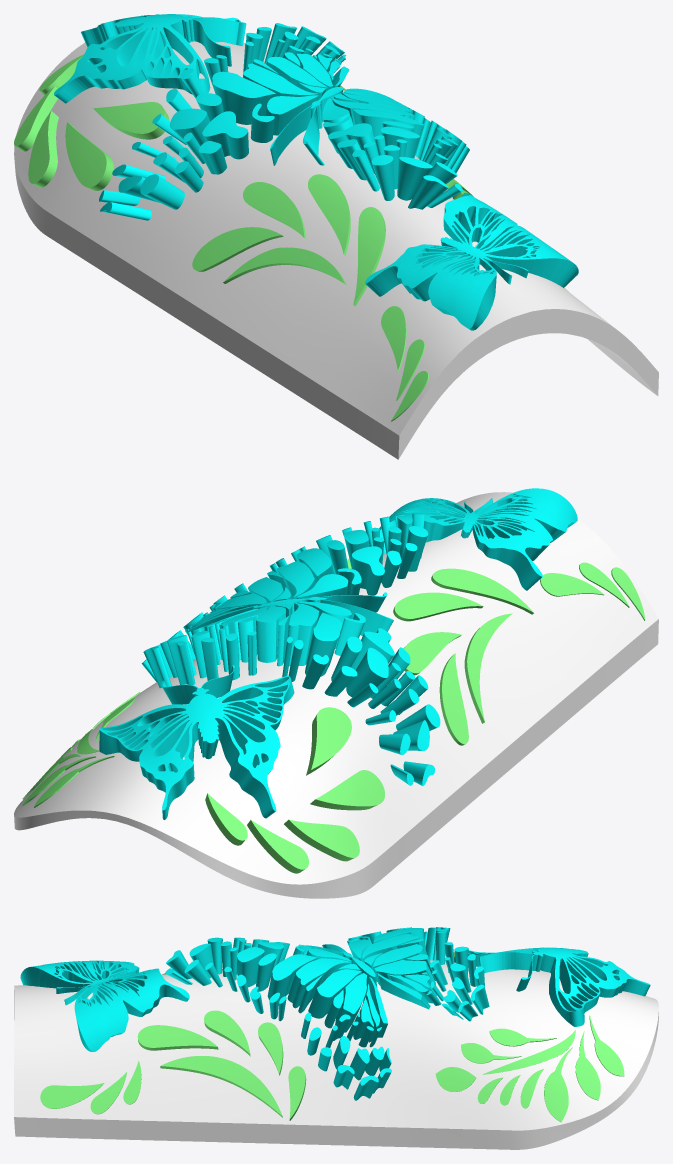
The model's file is butterfly-cove-square-web.glb.
The picture shows the model from 3 angles, top to bottom: view 1: azimuth 30°, elevation 25°; view 2: azimuth 150°, elevation 25°; view 3: azimuth 270°, elevation 25°; orthographic projection. The views are drawn at different scales.
Size of the model in its own units: 0.0138 by 0.00739 by 0.0301.
